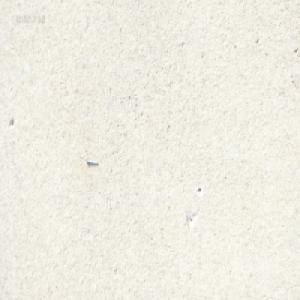Nail: (85, 156, 98, 164)
